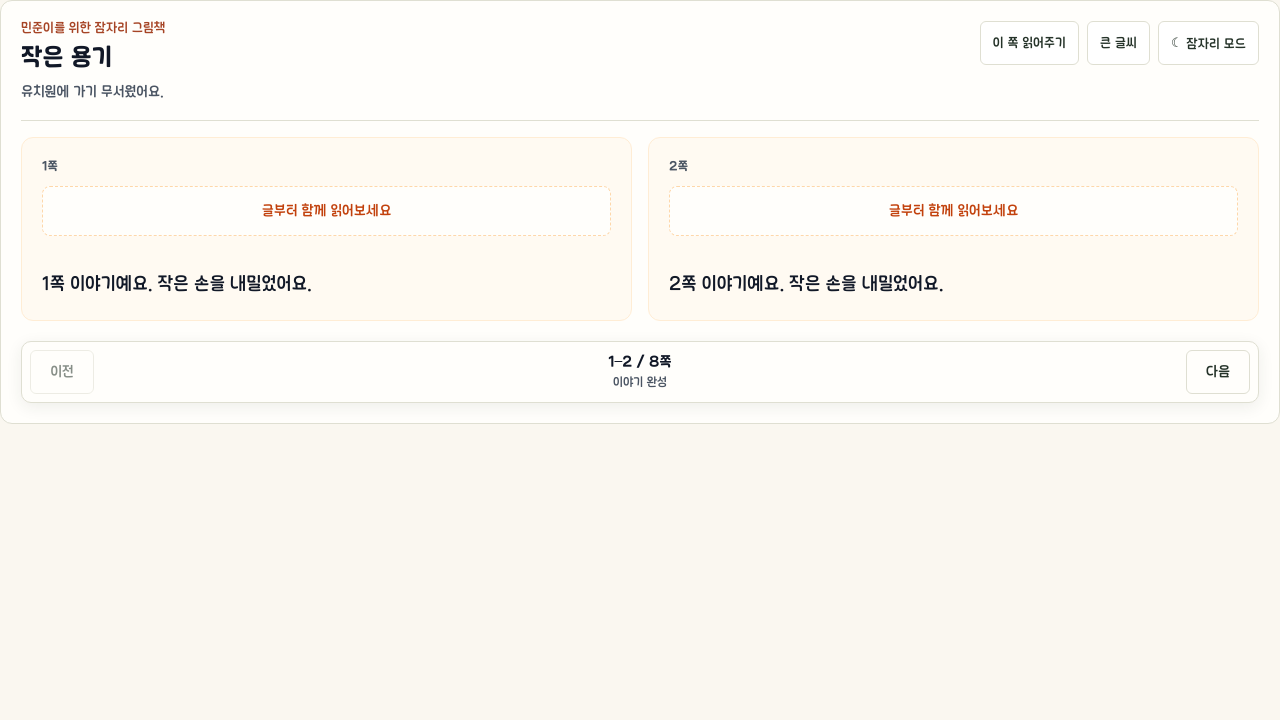
Test case: reader › offers a text download, not a broken public share URL
What coordinates should you click on to do the following:
click the button "다음"
I would click on:
 (1218, 372)
Its box is left=1186, top=350, right=1250, bottom=394.
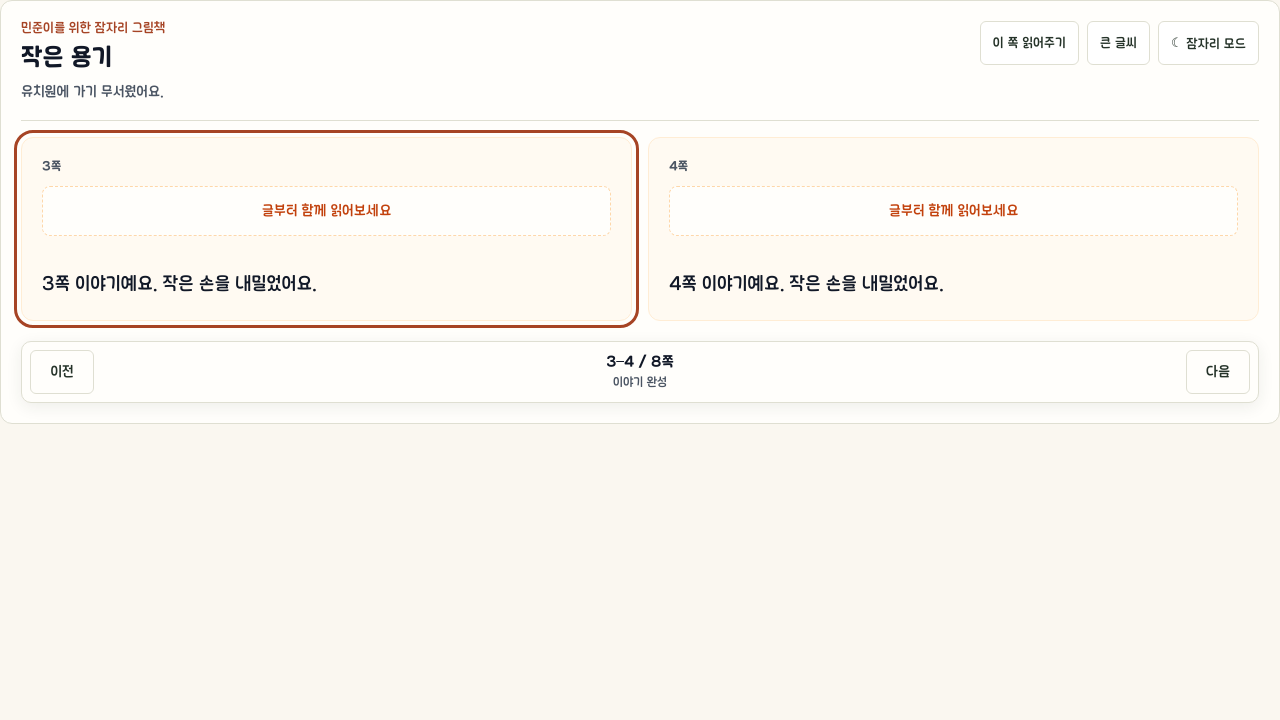
What coordinates should you click on to do the following:
click the button "다음"
I would click on:
 (1218, 372)
Its box is left=1186, top=350, right=1250, bottom=394.
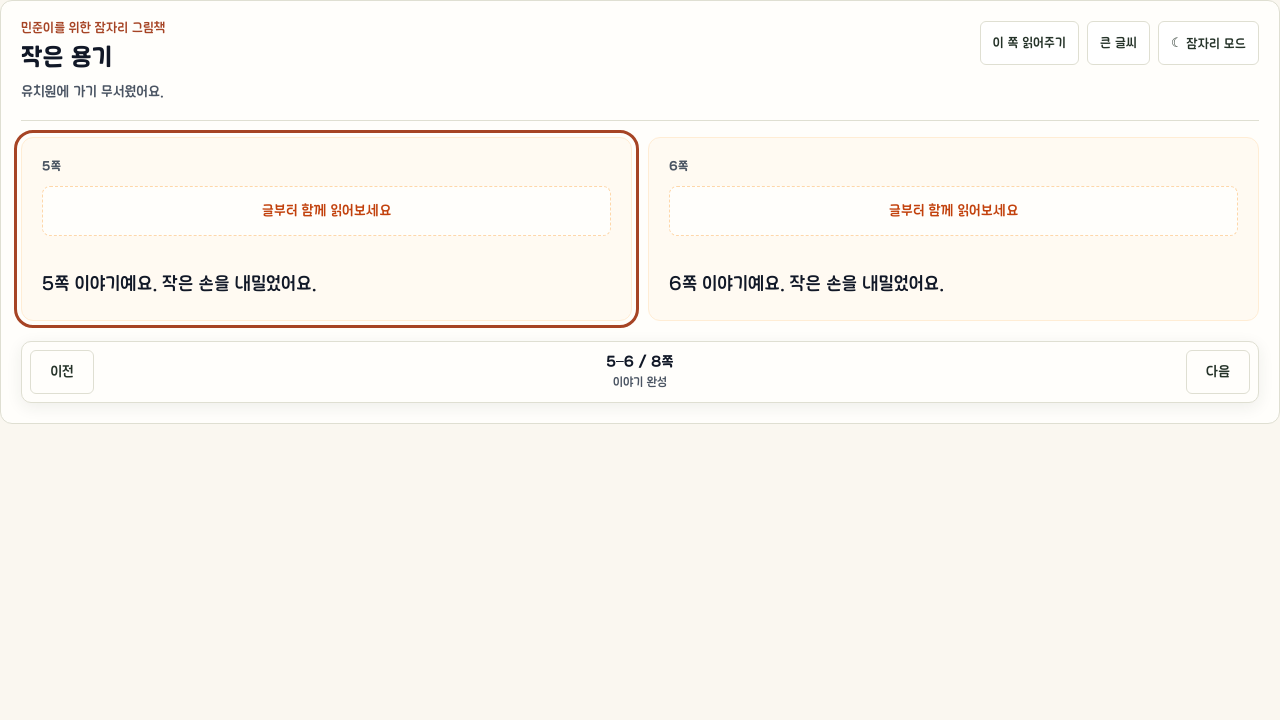
What coordinates should you click on to do the following:
click the button "다음"
I would click on:
 (1218, 372)
Its box is left=1186, top=350, right=1250, bottom=394.
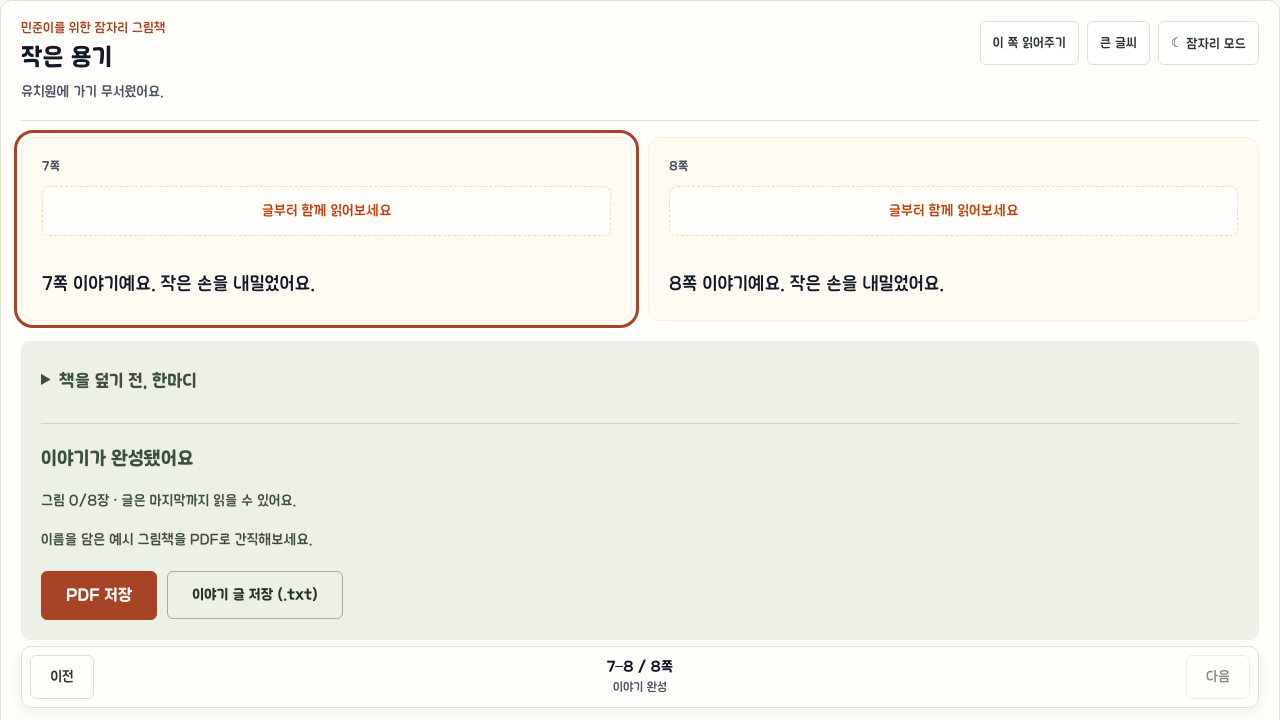
Result: the button "이야기 글 저장 (.txt)" is shown at left=167, top=571, right=343, bottom=619
